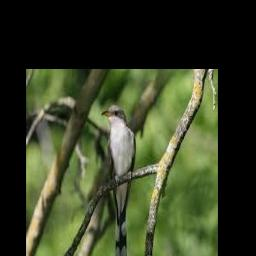Cuckoo: (101, 105, 135, 256)
